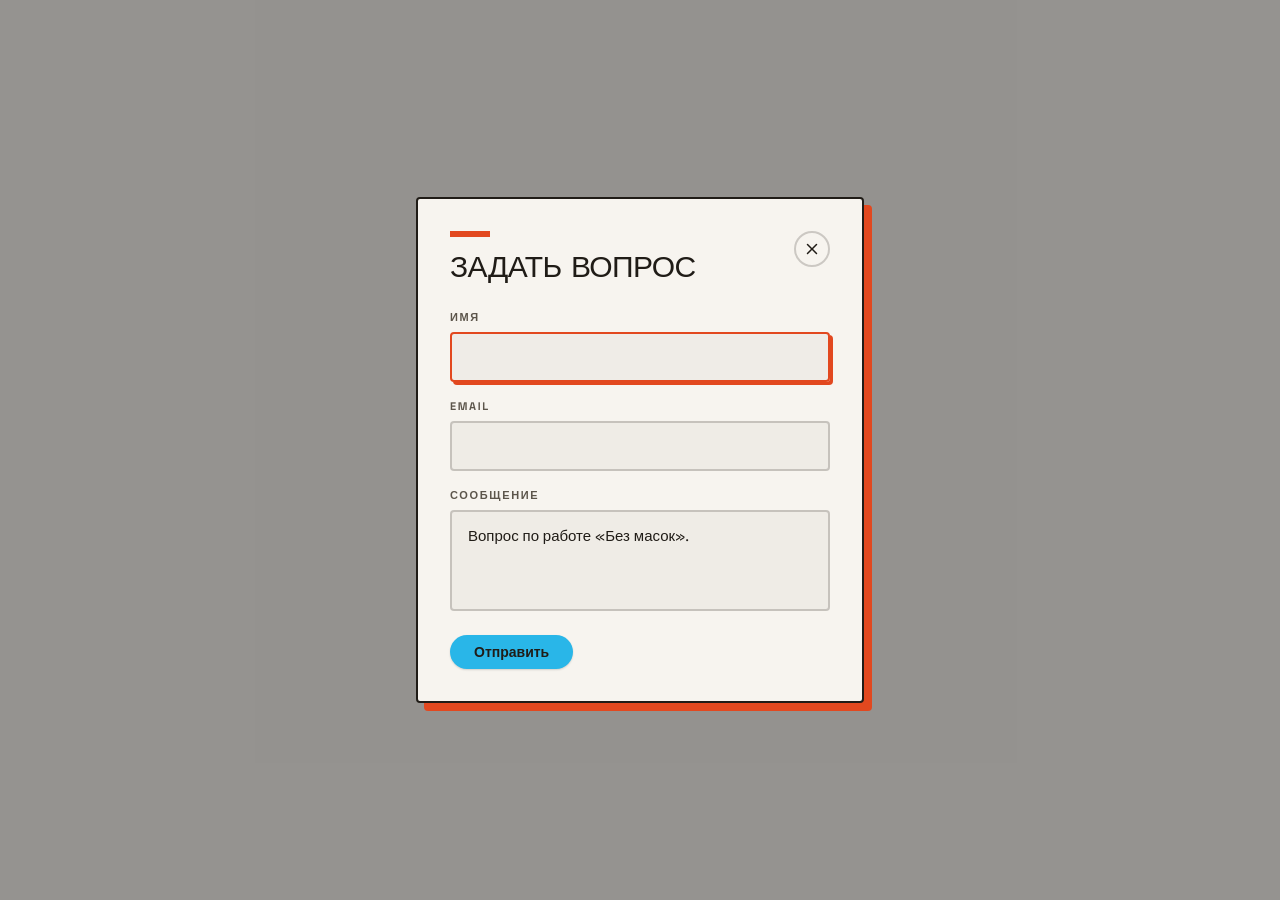
InquiryModal › shows validation errors and does not save when required fields are missing
What coordinates should you click on to do the following:
click the button "Отправить"
I would click on:
 (512, 652)
Its box is [450,635,573,669].
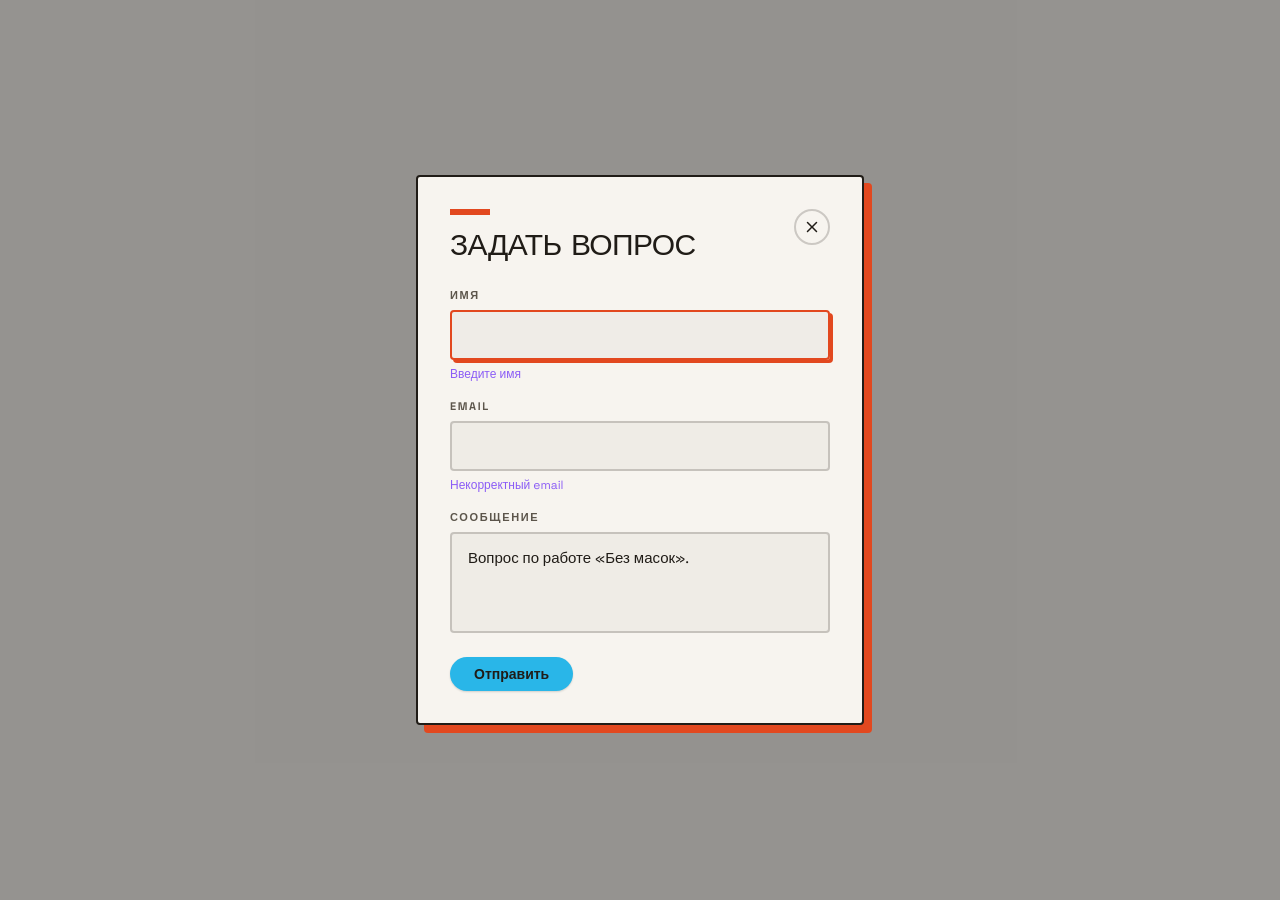
Check: the text "Введите имя" is shown, box [450,366,521,382]
